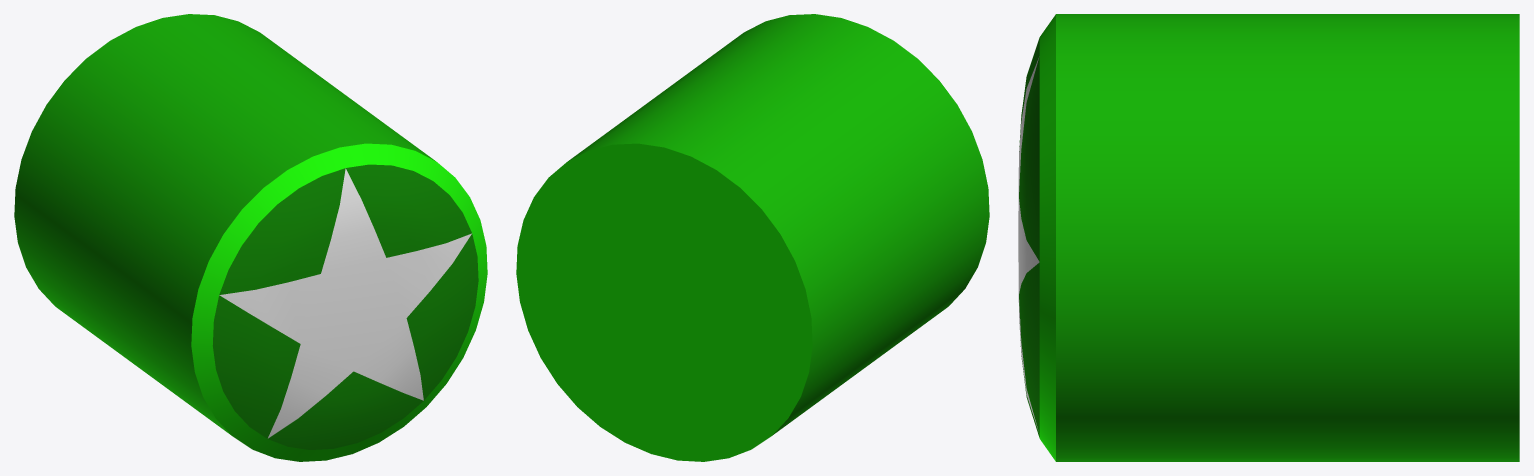
File: D_FBX_06_Bumper_03_C.fbx
The picture shows the model from 3 angles, left to right: view 1: azimuth 30°, elevation 25°; view 2: azimuth 150°, elevation 25°; view 3: azimuth 270°, elevation 25°; orthographic projection. The views are drawn at different scales.
Parts seen in each view (by area): view 1: D_FBX_06_Bumper_03_C; view 2: D_FBX_06_Bumper_03_C; view 3: D_FBX_06_Bumper_03_C.
Boxes of the visible parts, x1,y1,x2,y2 form: D_FBX_06_Bumper_03_C: (14,14,487,461); D_FBX_06_Bumper_03_C: (516,14,989,461); D_FBX_06_Bumper_03_C: (1018,14,1519,461).
Size of the model in its own units: 1.89 by 1.89 by 2.12.
